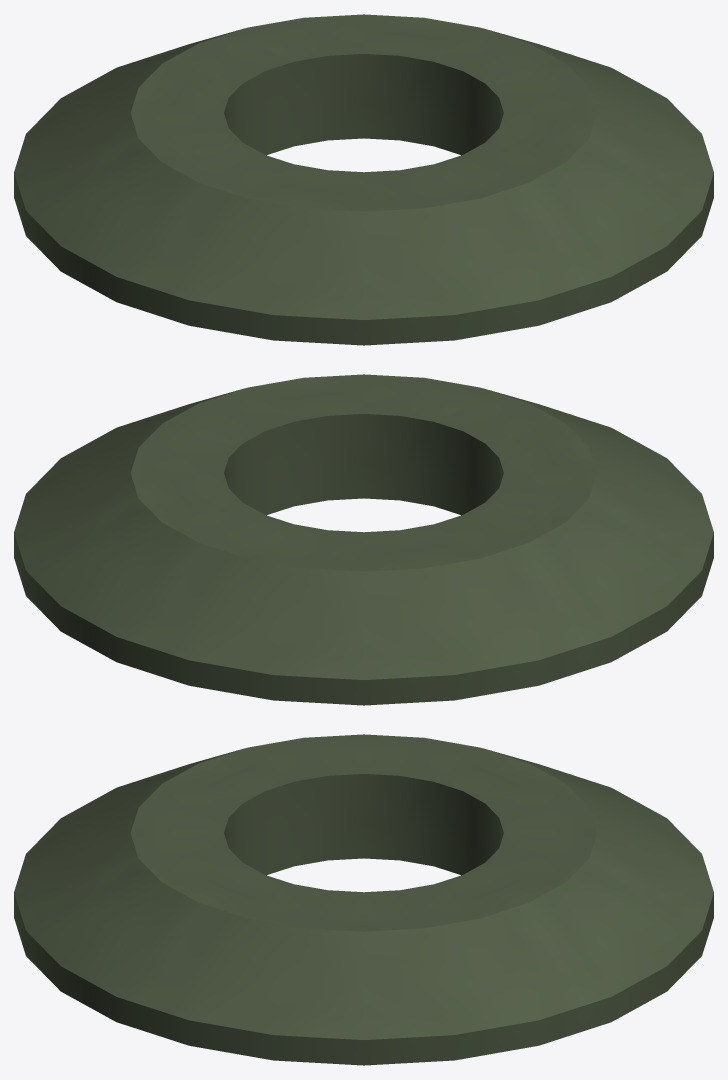
The model's file is decoupler.obj.
3 renders of one model, top to bottom at view 1: azimuth 30°, elevation 25°; view 2: azimuth 150°, elevation 25°; view 3: azimuth 270°, elevation 25°, orthographic.
Visible parts, largest first — view 1: 1; view 2: 1; view 3: 1.
Boxes of the visible parts, box(x1,y1,x2,y2) form: 1: box(14, 14, 713, 345); 1: box(14, 374, 713, 705); 1: box(14, 734, 713, 1065).
Bounding box in the file's own units: 0.9375 × 0.125 × 0.9375.
